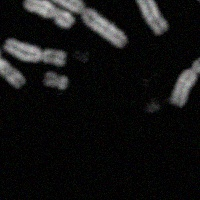chromosome: (49, 0, 128, 50), (4, 36, 67, 67), (0, 21, 24, 89), (123, 0, 170, 34), (171, 52, 200, 107), (24, 0, 73, 28), (43, 72, 69, 89), (197, 0, 200, 18)
